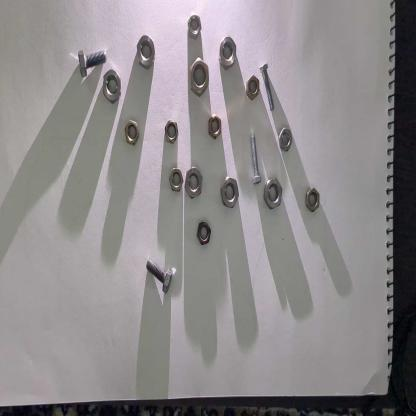Bolts: (144, 253, 174, 297), (257, 59, 277, 123), (77, 46, 108, 84), (247, 132, 262, 190)
NUTS: (188, 56, 210, 98), (102, 66, 124, 104), (136, 33, 156, 71), (222, 173, 240, 213), (264, 176, 282, 214), (184, 166, 204, 200), (219, 36, 238, 70), (194, 218, 212, 250), (205, 113, 223, 141), (245, 71, 260, 103), (169, 166, 184, 196), (306, 184, 322, 212), (165, 119, 181, 146), (125, 118, 139, 148), (188, 15, 204, 41), (278, 126, 292, 152)
